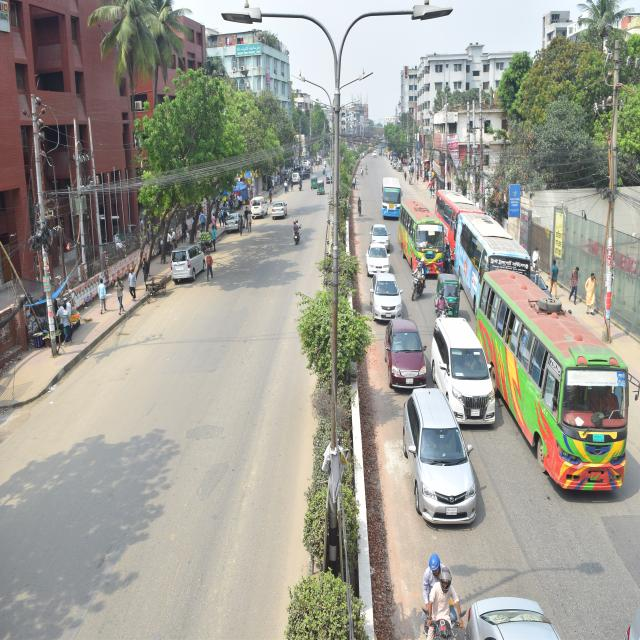bus: (475, 273, 635, 500), (456, 215, 522, 312), (433, 190, 481, 247), (378, 172, 407, 222)
car: (403, 376, 477, 534), (432, 315, 498, 435), (389, 316, 424, 387), (369, 270, 398, 317), (369, 223, 396, 254), (362, 250, 390, 276), (223, 208, 250, 233), (252, 194, 265, 222), (273, 198, 284, 216)
microbus: (170, 241, 207, 285)
motorbike: (286, 211, 304, 251)
